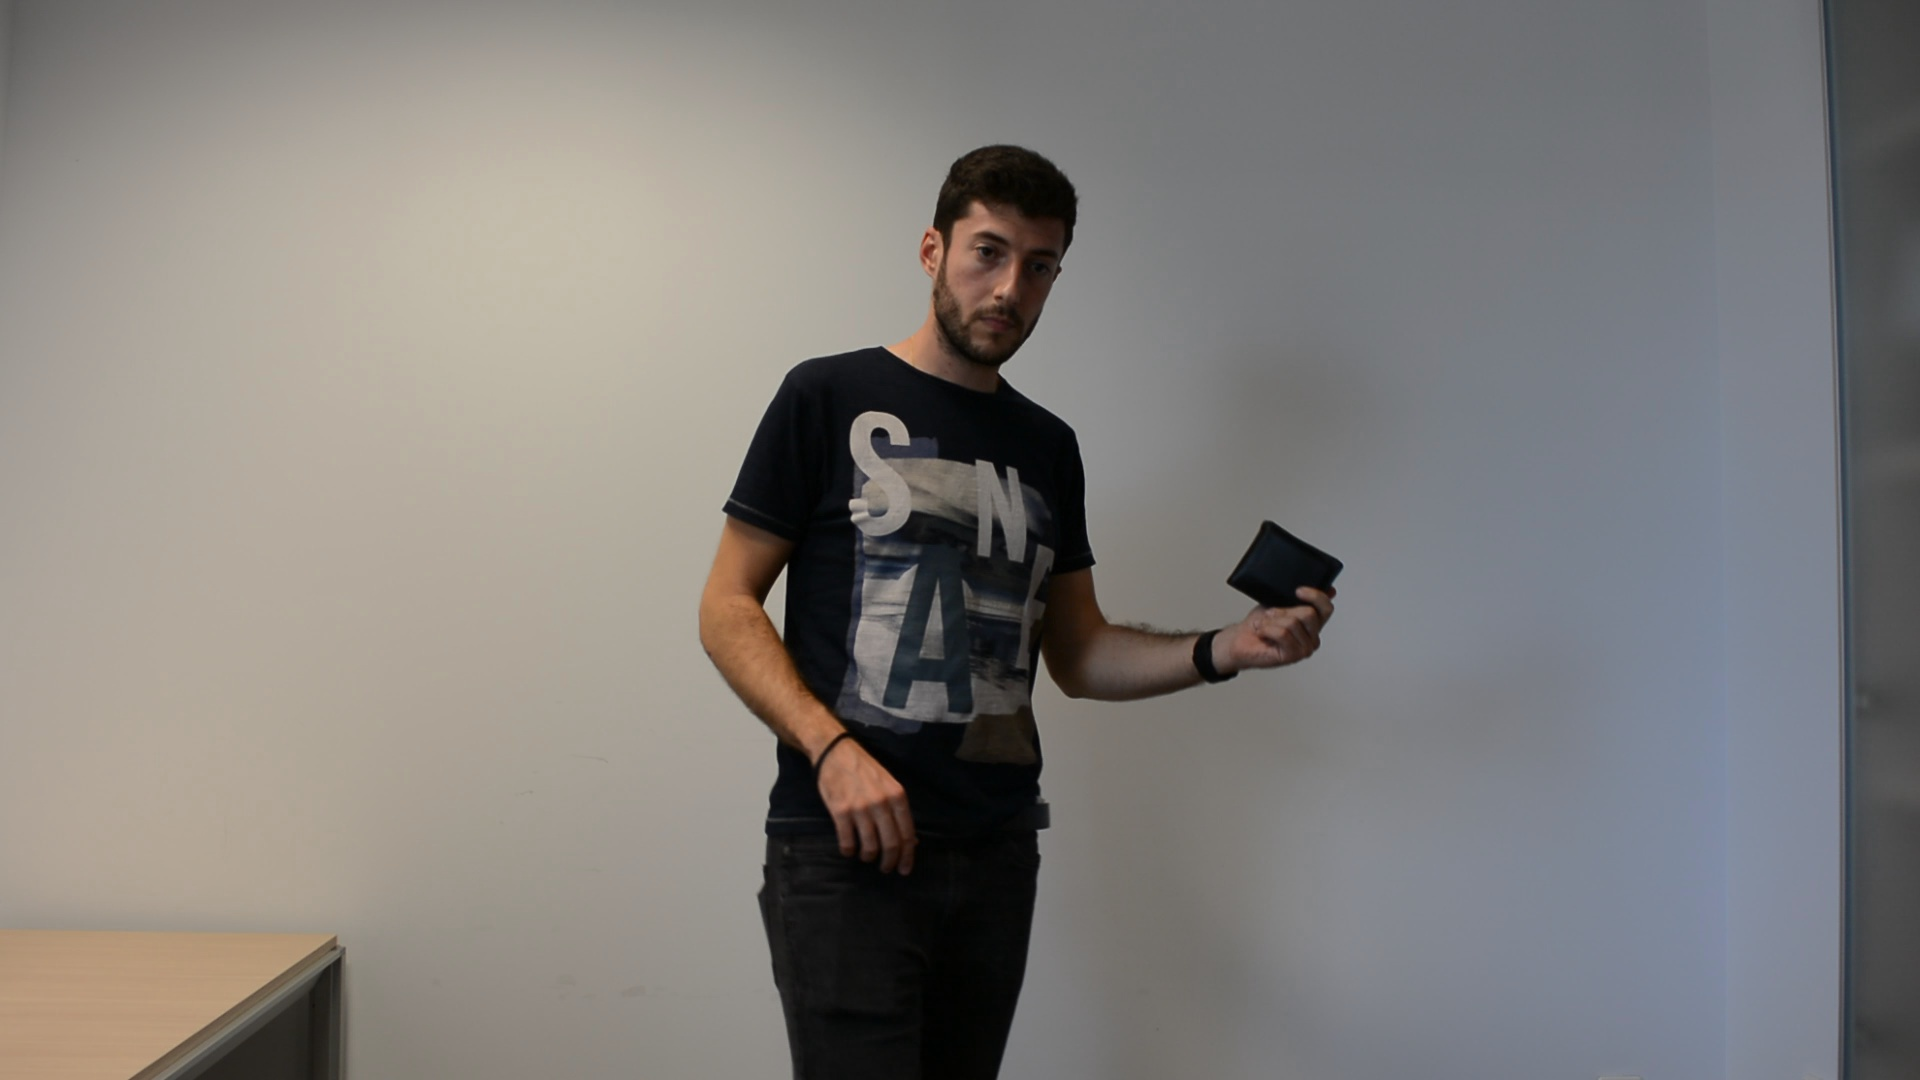monedero: (1224, 514, 1348, 617)
